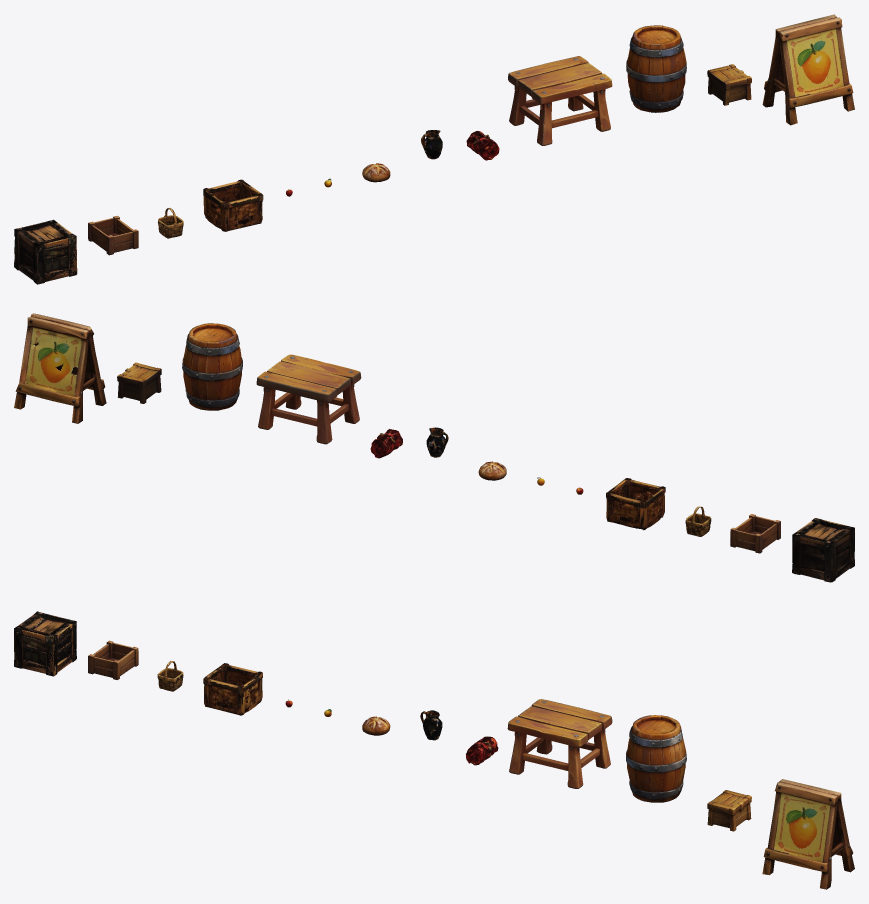
File: market_props.glb
3 renders of one model, top to bottom at view 1: azimuth 30°, elevation 25°; view 2: azimuth 150°, elevation 25°; view 3: azimuth 330°, elevation 25°, orthographic.
Visible parts, largest first — view 1: fallen_sign, small_table, wooden_barrel, wooden_crate, large_basket, fruit_crate, wooden_box, cloth_roll, small_basket; view 2: fallen_sign, small_table, wooden_barrel, wooden_crate, large_basket, fruit_crate, wooden_box, cloth_roll, small_basket; view 3: fallen_sign, small_table, wooden_barrel, wooden_crate, large_basket, fruit_crate, wooden_box, cloth_roll, small_basket.
Part boxes in pixels (x1=…): fallen_sign: x1=762, y1=14, x2=854, y2=125; small_table: x1=508, y1=56, x2=612, y2=145; wooden_barrel: x1=626, y1=25, x2=686, y2=112; wooden_crate: x1=14, y1=219, x2=77, y2=284; large_basket: x1=203, y1=179, x2=263, y2=231; fruit_crate: x1=88, y1=215, x2=138, y2=255; wooden_box: x1=707, y1=64, x2=751, y2=105; cloth_roll: x1=466, y1=131, x2=499, y2=160; small_basket: x1=158, y1=208, x2=183, y2=238; fallen_sign: x1=14, y1=313, x2=106, y2=423; small_table: x1=256, y1=354, x2=361, y2=444; wooden_barrel: x1=182, y1=323, x2=242, y2=410; wooden_crate: x1=792, y1=518, x2=854, y2=582; large_basket: x1=606, y1=478, x2=665, y2=530; fruit_crate: x1=730, y1=514, x2=780, y2=553; wooden_box: x1=117, y1=362, x2=161, y2=403; cloth_roll: x1=370, y1=429, x2=402, y2=458; small_basket: x1=685, y1=506, x2=711, y2=536; fallen_sign: x1=762, y1=779, x2=854, y2=889; small_table: x1=507, y1=699, x2=612, y2=788; wooden_barrel: x1=626, y1=715, x2=686, y2=802; wooden_crate: x1=14, y1=611, x2=76, y2=676; large_basket: x1=203, y1=663, x2=262, y2=715; fruit_crate: x1=88, y1=640, x2=138, y2=679; wooden_box: x1=707, y1=790, x2=751, y2=831; cloth_roll: x1=466, y1=736, x2=498, y2=765; small_basket: x1=157, y1=661, x2=183, y2=691.
Size of the model in its own units: 10.03 by 1.29 by 0.7326.
1 material, 1 textured.
